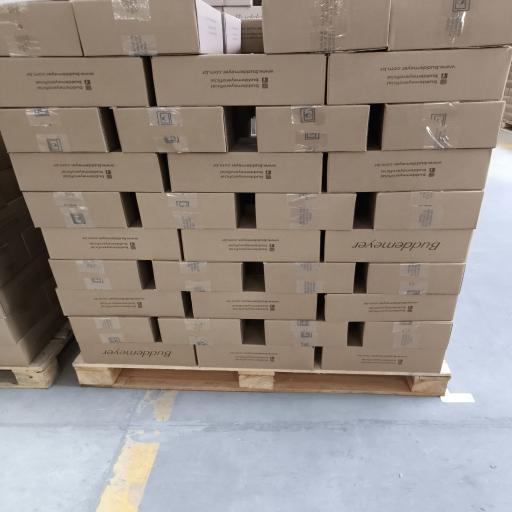pallet: (73, 355, 450, 396), (0, 321, 72, 388)
